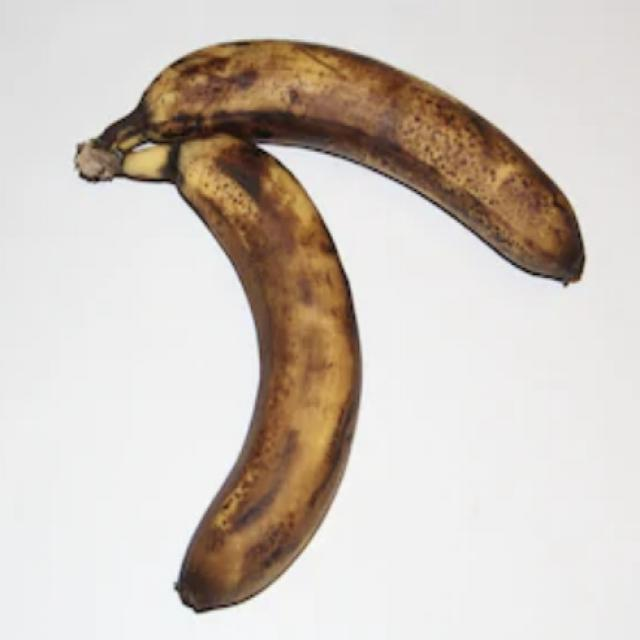rotten-banana: (105, 36, 597, 267), (165, 110, 359, 612)
